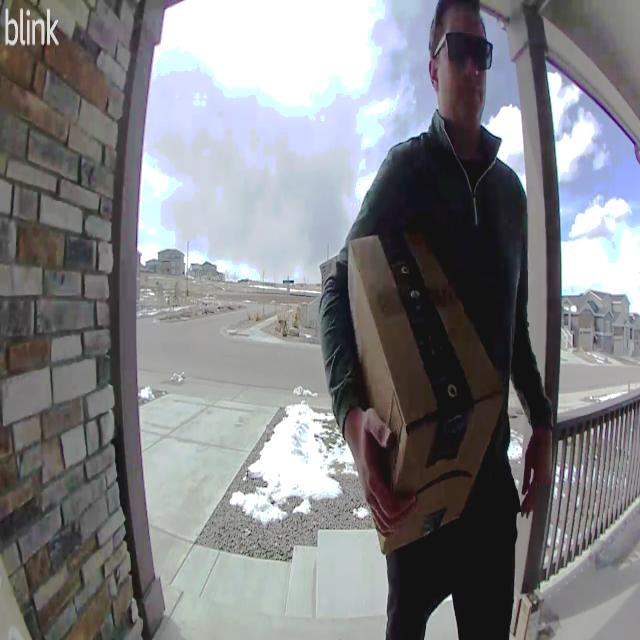Box: (348, 225, 501, 551), (514, 584, 546, 640)
